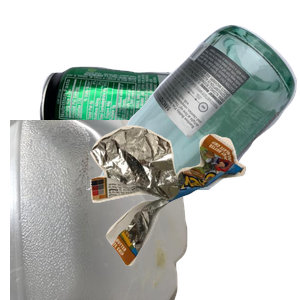glass: (86, 22, 300, 202)
metal: (37, 64, 245, 214)
plastic: (10, 120, 190, 300)
trash: (88, 123, 300, 300)
